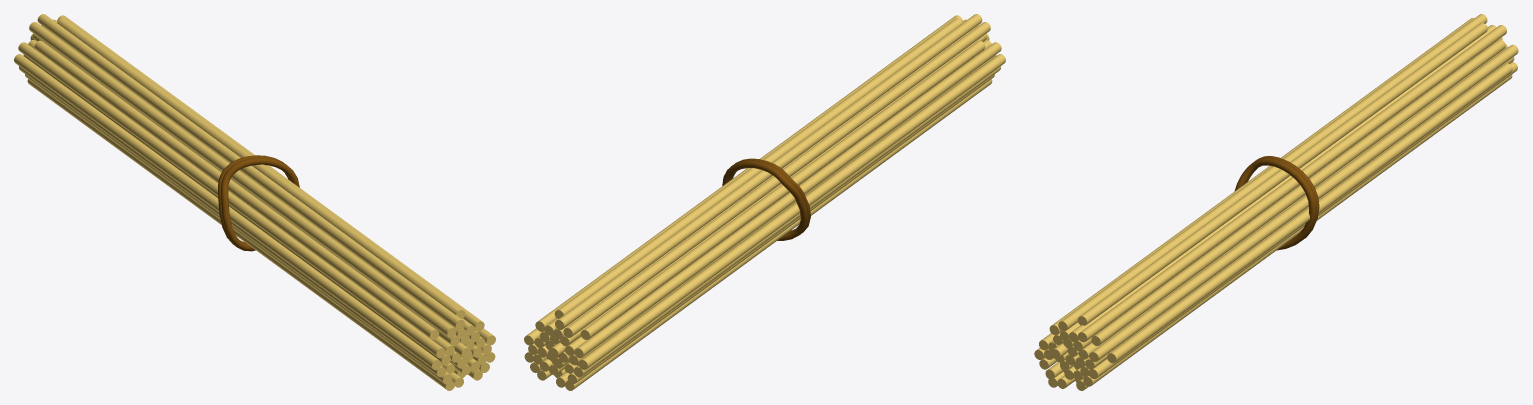
File: pâtes.glb
3 views of the same model, side by side, from view 1: azimuth 30°, elevation 25°; view 2: azimuth 150°, elevation 25°; view 3: azimuth 330°, elevation 25° (orthographic).
Visible parts, largest first — view 1: Cylinder.045, BézierCurve.001, BézierCurve; view 2: Cylinder.045, BézierCurve, BézierCurve.001; view 3: Cylinder.045, BézierCurve.001, BézierCurve.
Part boxes in pixels (x1,y1,x2,y2): Cylinder.045: [14, 14, 495, 390]; BézierCurve.001: [220, 157, 299, 251]; BézierCurve: [218, 155, 290, 245]; Cylinder.045: [524, 14, 1005, 390]; BézierCurve: [722, 160, 808, 240]; BézierCurve.001: [730, 158, 810, 232]; Cylinder.045: [1034, 14, 1518, 390]; BézierCurve.001: [1234, 158, 1316, 250]; BézierCurve: [1245, 156, 1319, 238].
Size of the model in its own units: 0.4998 by 0.4975 by 4.65.
